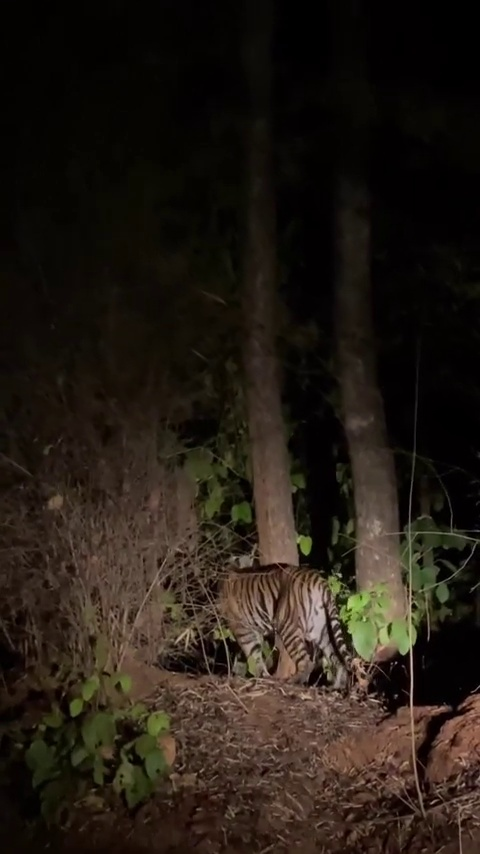Tiger: (211, 561, 378, 692)
